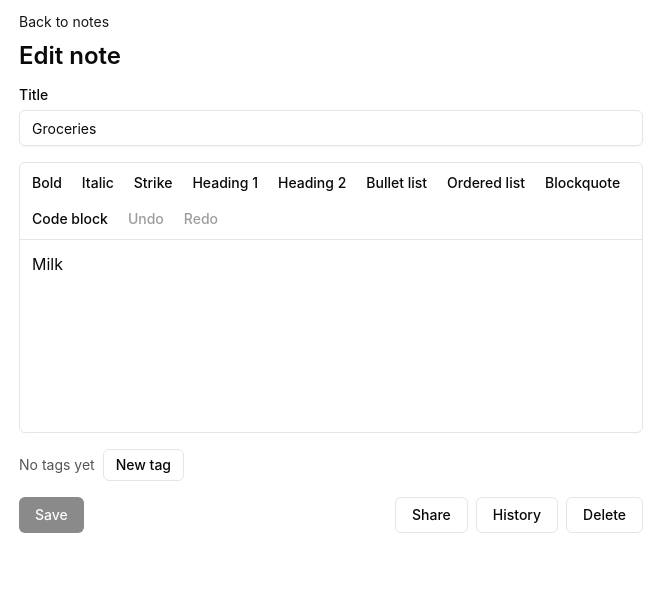
NoteEditorPage autosave › Failed autosave keeps edits and offers retry
The image size is (663, 612).
Expected: the field named "Note content" is shown, left=32, top=254, right=63, bottom=274
Step 1. Type "!" into the field labelled "Title" → (331, 128), box left=19, top=110, right=643, bottom=146
Wait 11000 ms
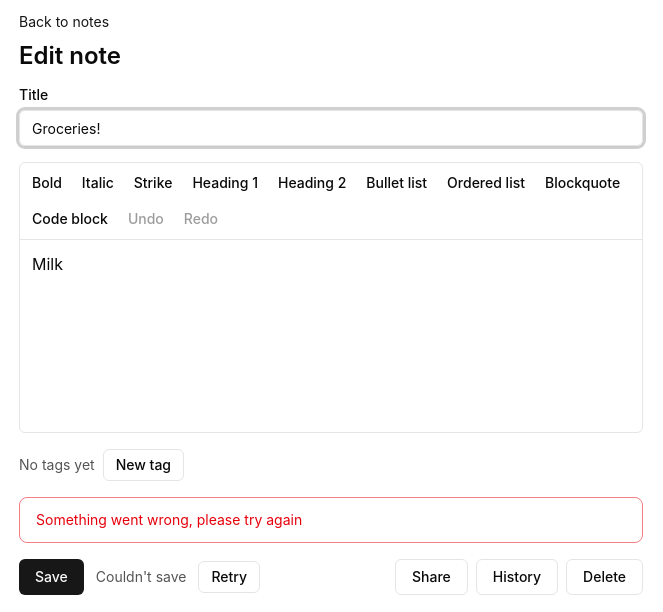
Result: the message shows "Something went wrong" at left=36, top=511, right=302, bottom=528
Result: the text "Couldn't save" is shown at left=96, top=567, right=186, bottom=587
Result: the button "Retry" is shown at left=198, top=561, right=260, bottom=593
